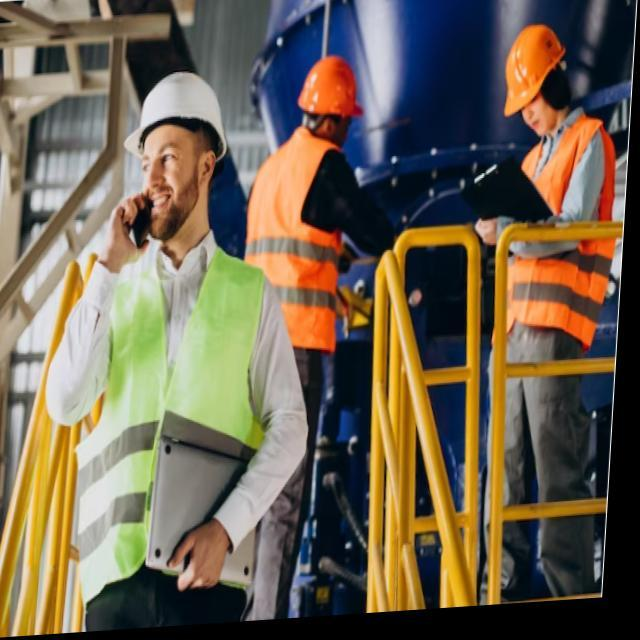helmet: (129, 65, 235, 245), (493, 16, 578, 150), (292, 50, 369, 157)
vest: (66, 228, 284, 617), (488, 110, 623, 360), (230, 125, 367, 366)
